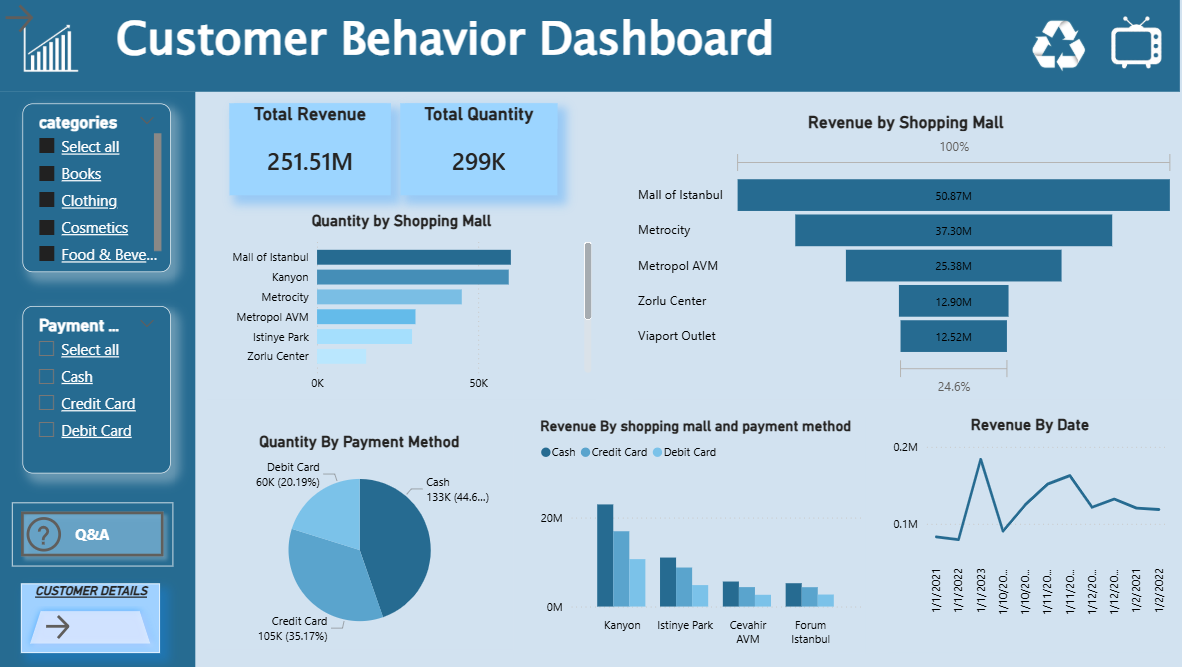

Layout of this report page (visuals, bound fields, positions):
{"tool":"powerbi","page":{"name":"Page 1","canvas":[1280,720],"ordinal":0},"visuals":[{"type":"funnel","title":"Revenue by Shopping Mall","fields":{"Category":["customer segment.shopping_mall"],"Y":["Sum(customer segment.Revenue)"]},"box":[680.8,120.9,586.9,308.6],"z":0},{"type":"lineChart","title":"Revenue By Date","fields":{"Category":["customer segment.invoice_date","customer segment.invoice_date Hierarchy.invoice_date"],"Y":["Sum(customer segment.Revenue)"]},"box":[954.4,447,305.4,254.5],"z":1000},{"type":"barChart","title":"Quantity by Shopping Mall","fields":{"Category":["customer segment.shopping_mall"],"Y":["Sum(customer segment.quantity)"]},"box":[222.7,227.5,418.3,202],"z":2000},{"type":"textbox","box":[0,0,1268.3,98.3],"z":3000},{"type":"image","box":[1089.6,11.1,92.3,74.8],"z":4000},{"type":"image","box":[7.1,20,91.4,67.1],"z":5000},{"type":"cardVisual","title":"Total Revenue","fields":{"Data":["Sum(customer segment.Revenue)"]},"box":[246.5,111.3,173.4,98.6],"z":6000},{"type":"textbox","box":[0,98.3,210,620],"z":7000},{"type":"slicer","fields":{"Values":["customer segment.category"]},"box":[23.9,111.3,159.1,181.3],"z":8000},{"type":"actionButton","title":"CUSTOMER DETAILS","box":[22.3,626.7,149.5,74.8],"z":9000},{"type":"slicer","fields":{"Values":["customer segment.payment_method"]},"box":[23.9,329.3,159.1,179.7],"z":10000},{"type":"cardVisual","title":"Total Quantity","fields":{"Data":["Sum(customer segment.quantity)"]},"box":[431.1,111.3,168.6,98.6],"z":11000},{"type":"actionButton","box":[12.7,540.8,173.4,68.4],"z":12000},{"type":"pieChart","title":"Quantity By Payment Method","fields":{"Category":["customer segment.payment_method"],"Y":["Sum(customer segment.quantity)"]},"box":[221.1,464.5,330.8,233.8],"z":13000},{"type":"clusteredColumnChart","title":"Revenue By shopping mall and payment method","fields":{"Category":["customer segment.shopping_mall"],"Y":["Sum(customer segment.Revenue)"],"Series":["customer segment.payment_method"]},"box":[575.8,448.6,354.7,254.5],"z":14000},{"type":"image","box":[1162.7,0,117.7,98.6],"z":15000},{"type":"actionButton","box":[0,0,100,40],"z":16000}]}

Visuals, with their boxes in screenshot pixels (x1, y1, x2, y2), scaled from the page's 1280x720 canvas onto the 1182x667 screenshot:
"Revenue by Shopping Mall" funnel: 629/112/1171/398
"Revenue By Date" lineChart: 881/414/1163/650
"Quantity by Shopping Mall" barChart: 206/211/592/398
textbox: 0/0/1171/91
image: 1006/10/1091/80
image: 7/19/91/81
"Total Revenue" cardVisual: 228/103/388/194
textbox: 0/91/194/665
slicer - customer segment.category: 22/103/169/271
"CUSTOMER DETAILS" actionButton: 21/581/159/650
slicer - customer segment.payment_method: 22/305/169/472
"Total Quantity" cardVisual: 398/103/554/194
actionButton: 12/501/172/564
"Quantity By Payment Method" pieChart: 204/430/510/647
"Revenue By shopping mall and payment method" clusteredColumnChart: 532/416/859/651
image: 1074/0/1181/91
actionButton: 0/0/92/37
